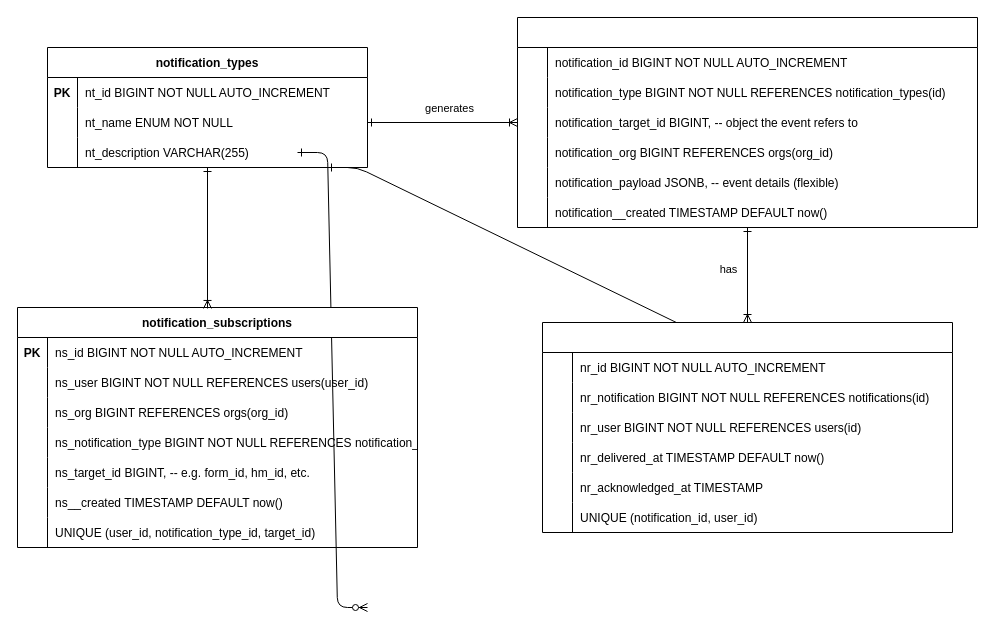
Image size: 995x634. Some labels were removed from this diagram. Each missing label, with the box of its shape:
notification_recipients: (542, 322, 952, 532)
notifications: (516, 16, 978, 228)
